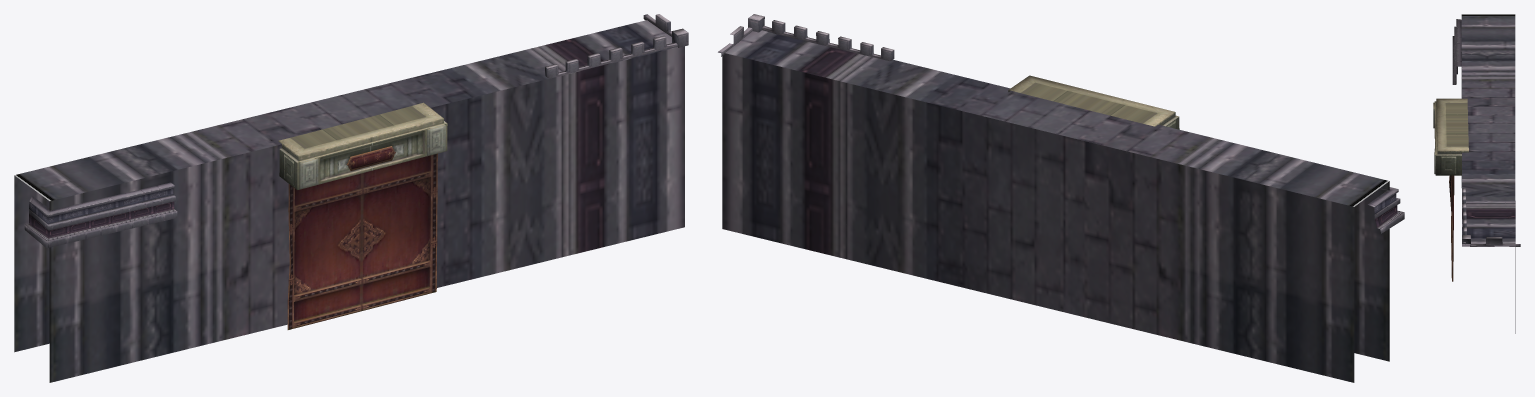
Rendered from combat_01_redgate.FBX.
3 views of the same model, side by side, from view 1: azimuth 30°, elevation 25°; view 2: azimuth 150°, elevation 25°; view 3: azimuth 270°, elevation 25° (orthographic). The views are drawn at different scales.
Visible parts, largest first — view 1: wall, men; view 2: wall; view 3: wall, men.
Boxes of the visible parts, x1,y1,x2,y2 form: wall: (14, 14, 688, 382); men: (287, 153, 437, 329); wall: (718, 14, 1404, 382); wall: (1433, 14, 1520, 333); men: (1449, 175, 1454, 281).
Bounding box in the file's own units: 55.7 × 15.93 × 8.68.
